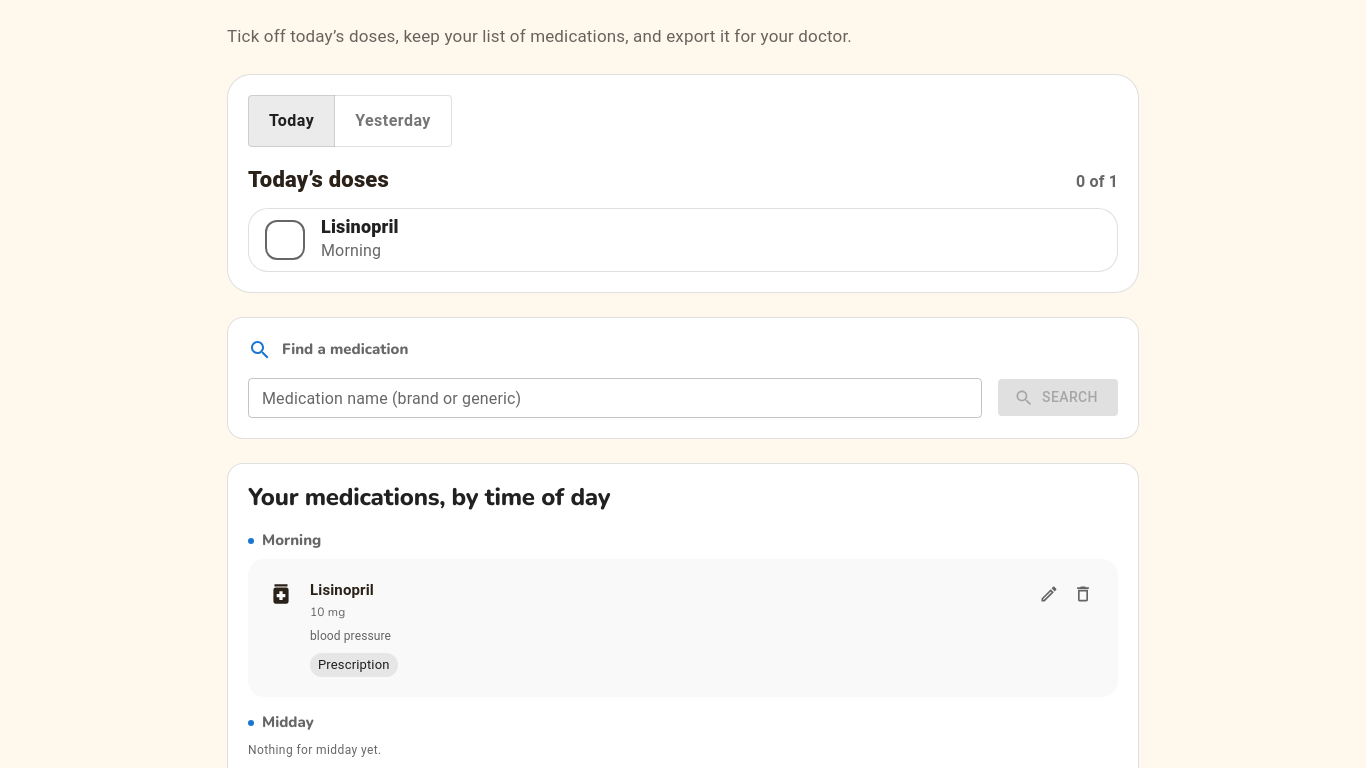
B18 — remove has Undo › a remove that failed keeps the row and says so — no "Removed"
This screenshot has width=1366, height=768.
Click the button named "Remove Lisinopril" at (1083, 594), box [1068,579,1098,609]
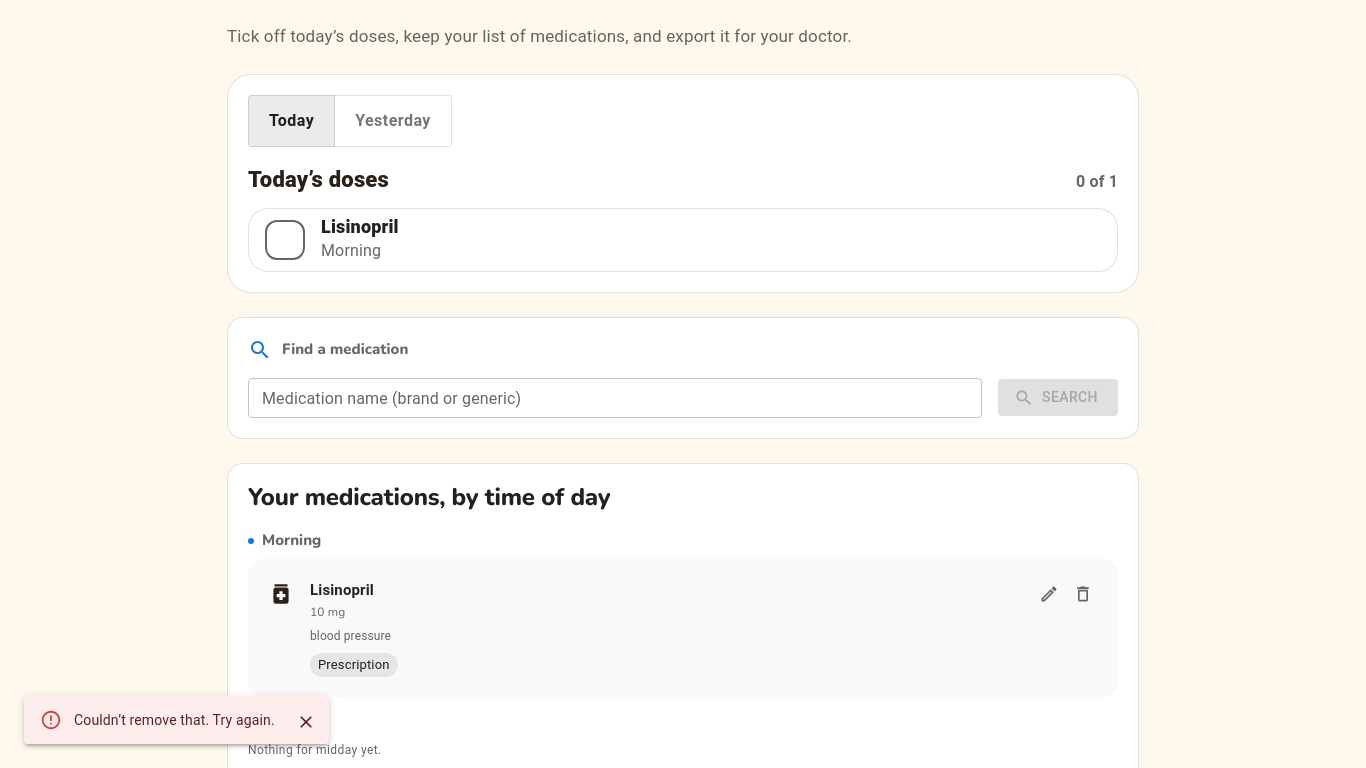
Expected: the text "Couldn’t remove that. Try again." is shown, [74,712,275,728]
